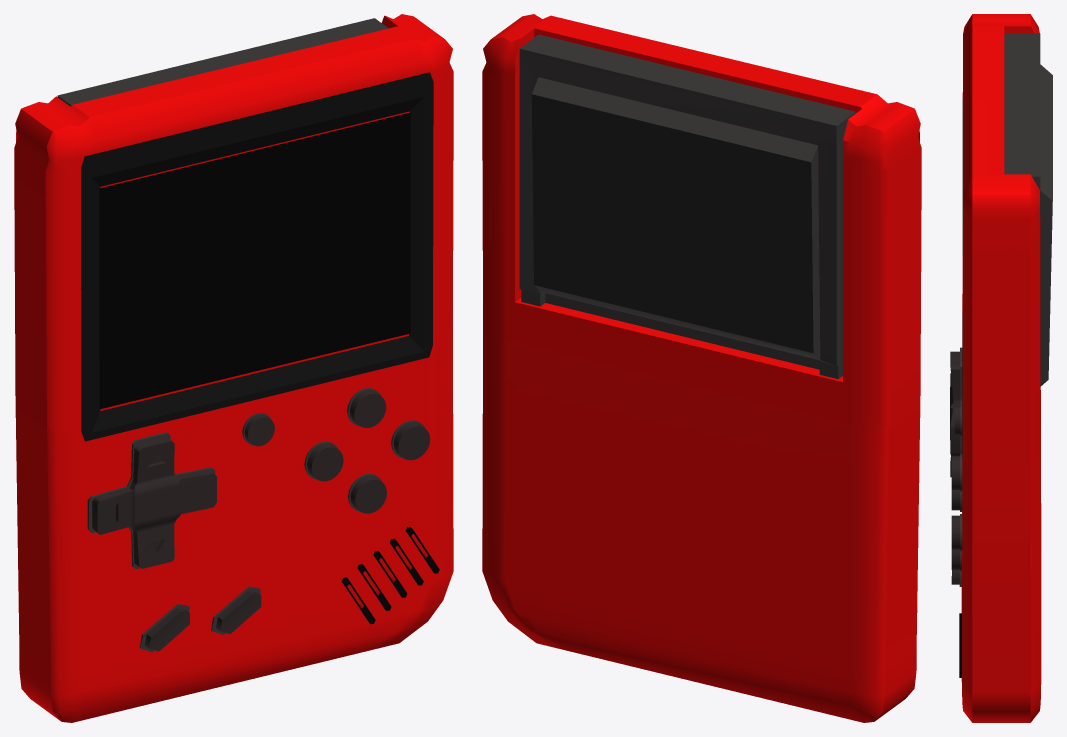
Rendered from Minigame.fbx.
3 renders of one model, left to right at view 1: azimuth 30°, elevation 25°; view 2: azimuth 150°, elevation 25°; view 3: azimuth 270°, elevation 25°, orthographic. The views are drawn at different scales.
Parts seen in each view (by area): view 1: Object_5, Object_2, Object_8, Object_9, Object_6, Object_7; view 2: Object_5, Object_4, Object_6, Object_3; view 3: Object_5, Object_6, Object_3, Object_9, Object_8, Object_7.
Boxes of the visible parts, box(x1,y1,x2,y2) form: Object_5: box(14, 14, 453, 722); Object_2: box(99, 112, 410, 409); Object_8: box(81, 72, 433, 441); Object_9: box(92, 390, 430, 651); Object_6: box(57, 18, 425, 652); Object_7: box(341, 526, 439, 624); Object_5: box(482, 14, 921, 722); Object_4: box(531, 94, 813, 353); Object_6: box(519, 34, 855, 366); Object_3: box(521, 77, 842, 379); Object_5: box(961, 14, 1041, 722); Object_6: box(959, 33, 1040, 586); Object_3: box(1040, 64, 1052, 386); Object_9: box(950, 351, 960, 584); Object_8: box(962, 98, 962, 458); Object_7: box(959, 613, 961, 677).
Bounding box in the file's own units: 153 × 216 × 36.09.
